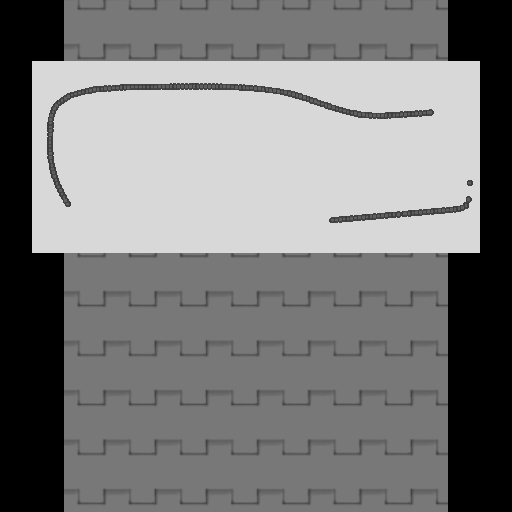Defect: (64, 206, 328, 228)
